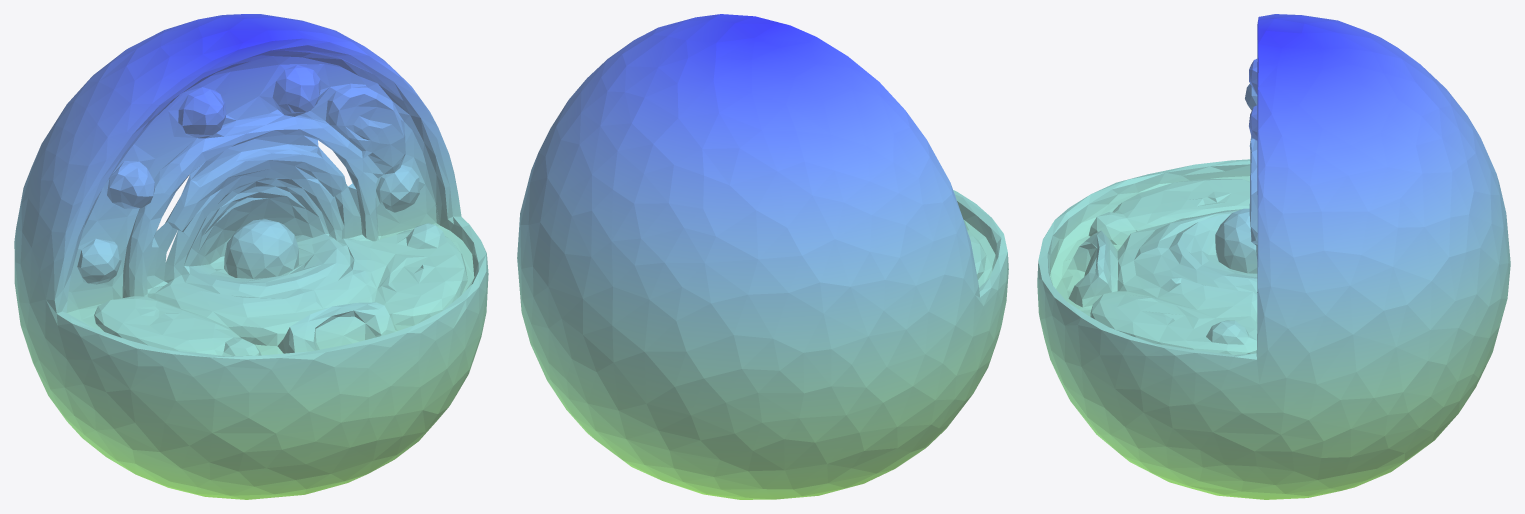
File: 105_cyb_laser_gradient_fish_scales_2977_2026_10_03_b3389f.glb
3 views of the same model, side by side, from view 1: azimuth 30°, elevation 25°; view 2: azimuth 150°, elevation 25°; view 3: azimuth 270°, elevation 25° (orthographic). The views are drawn at different scales.
Visible parts, largest first — view 1: geometry_0; view 2: geometry_0; view 3: geometry_0.
Boxes of the visible parts, x1,y1,x2,y2 form: geometry_0: [14, 14, 488, 499]; geometry_0: [517, 14, 1008, 499]; geometry_0: [1037, 14, 1510, 499].
Size of the model in its own units: 0.9973 by 1 by 0.9908.
